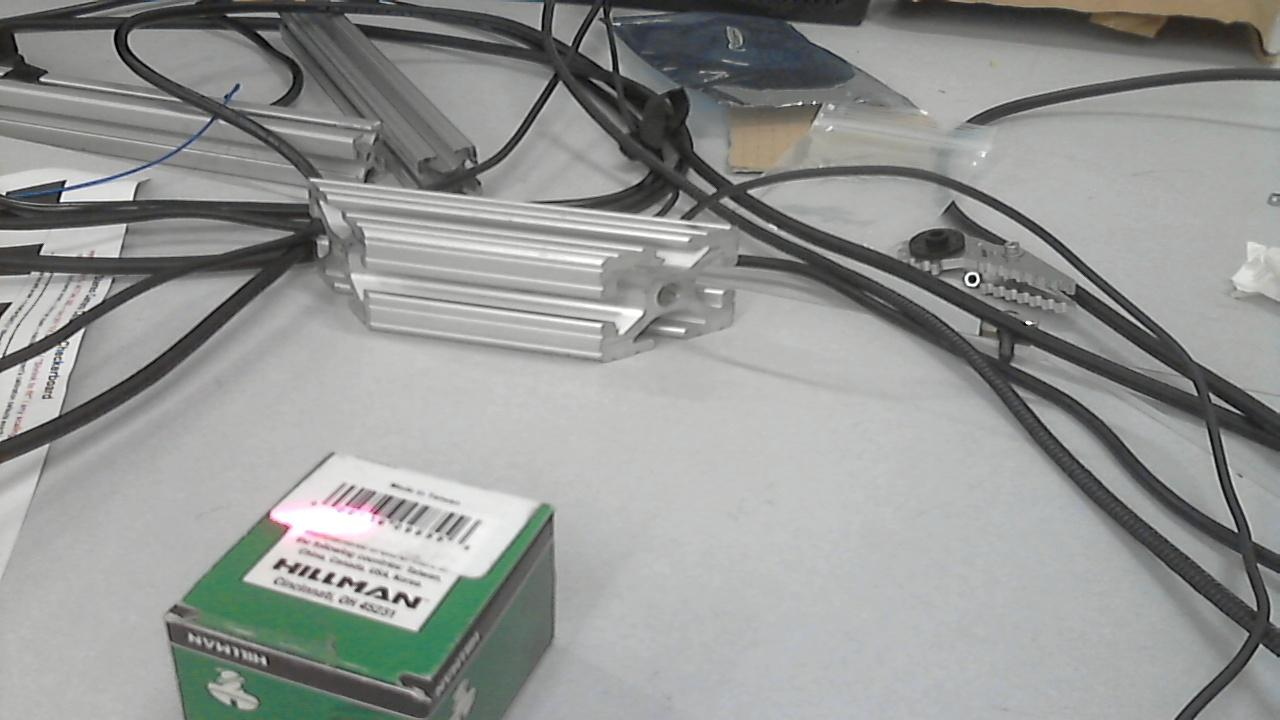Object screw packaging box - Material cardboard - Pdfname VgpKnmoKJfrS: (246, 481, 389, 554)
